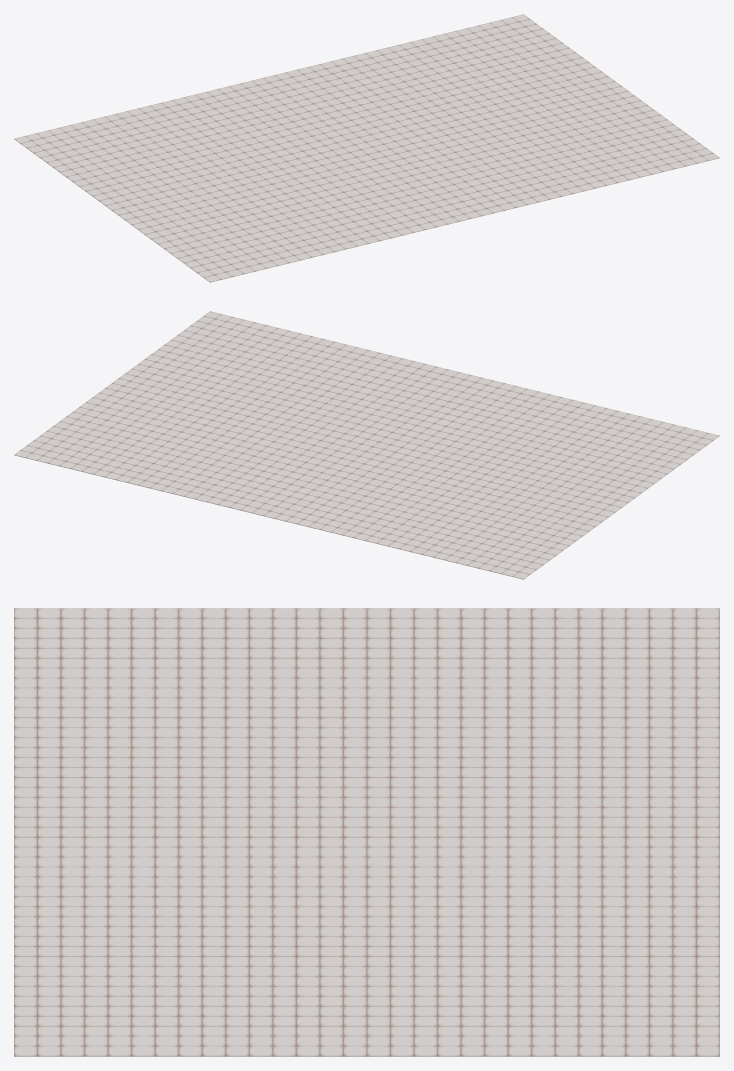
Rendered from tile45x30.obj.
3 views of the same model, one above another, from view 1: azimuth 30°, elevation 25°; view 2: azimuth 150°, elevation 25°; view 3: azimuth 270°, elevation 25° (orthographic). The views are drawn at different scales.
Size of the model in its own units: 45 by 0.025 by 30.
1 material, 1 textured.
